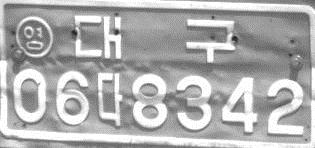0: (12, 67, 47, 124)
2: (266, 77, 305, 136)
3: (175, 74, 212, 131)
4: (220, 76, 258, 133)
6: (55, 70, 89, 126)
8: (131, 72, 169, 129)
다: (96, 71, 124, 126)
대구_D: (73, 14, 236, 65)
영: (14, 14, 54, 58)
